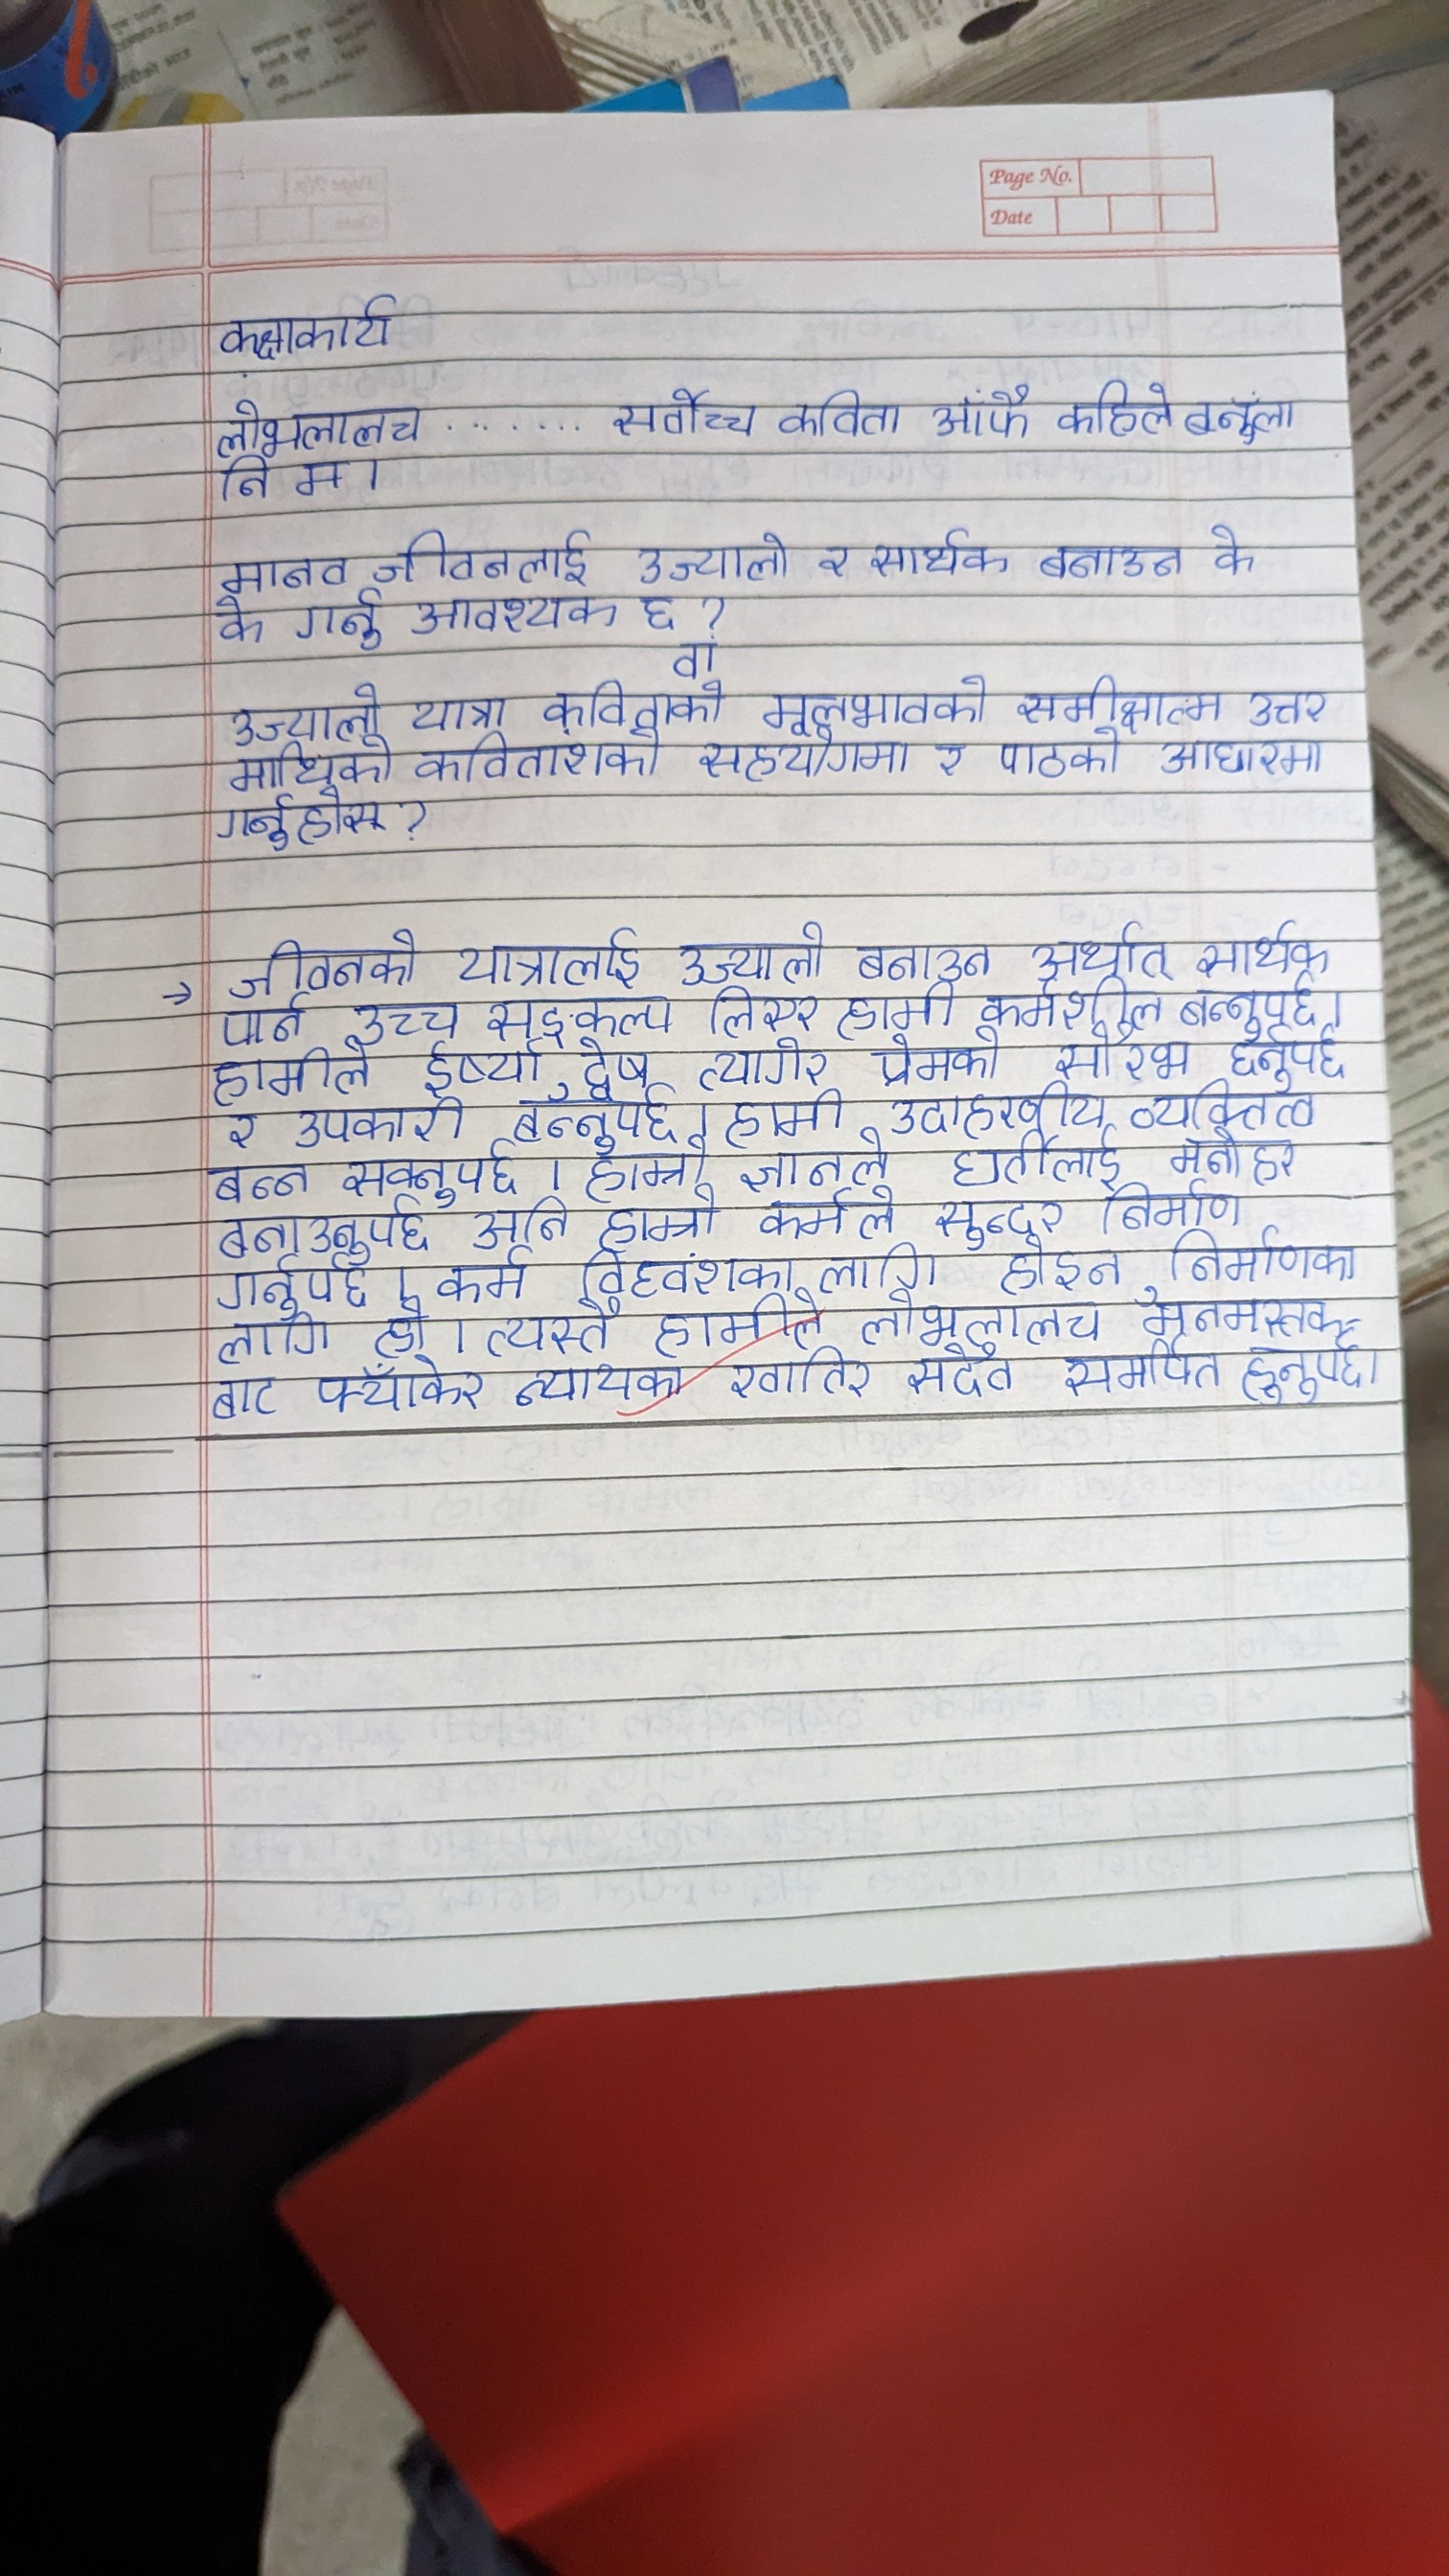text: (211, 285, 400, 361), (370, 522, 596, 582), (453, 918, 649, 987), (1016, 663, 1221, 727), (209, 393, 425, 453), (763, 671, 985, 727), (410, 732, 658, 782), (225, 925, 416, 989), (699, 732, 916, 787), (212, 793, 398, 856), (665, 915, 828, 987), (218, 1207, 442, 1258), (853, 1295, 1102, 1341), (200, 681, 387, 740), (412, 587, 617, 640), (886, 1090, 1111, 1136), (593, 386, 757, 442), (1019, 916, 1169, 978), (1164, 1235, 1359, 1283), (725, 1348, 879, 1408), (573, 1253, 800, 1293), (340, 1148, 513, 1201), (540, 681, 731, 729), (513, 1361, 690, 1412), (630, 527, 796, 580), (488, 994, 678, 1040), (1033, 527, 1189, 582), (214, 1260, 373, 1313), (947, 1136, 1115, 1185), (1058, 1345, 1223, 1394), (651, 1299, 828, 1345), (865, 520, 1008, 577), (290, 1102, 481, 1145), (511, 1095, 681, 1143), (770, 382, 904, 442), (211, 1049, 373, 1099), (1192, 915, 1330, 973), (1141, 1295, 1345, 1334), (924, 375, 1031, 448), (978, 985, 1168, 1026), (1238, 1339, 1366, 1399), (226, 745, 396, 789), (313, 1368, 483, 1412), (925, 1189, 1076, 1238), (855, 929, 994, 982), (1095, 1189, 1258, 1233), (1049, 1031, 1189, 1083), (1168, 1131, 1307, 1182), (736, 1146, 897, 1191), (987, 1240, 1131, 1290), (1131, 1088, 1320, 1125), (1062, 373, 1175, 435), (1166, 743, 1329, 786), (1180, 978, 1323, 1026), (214, 540, 352, 589), (761, 1192, 902, 1240), (596, 1191, 718, 1246), (1223, 1030, 1350, 1081), (872, 1037, 1003, 1086), (423, 1042, 545, 1093), (1185, 389, 1295, 446), (487, 1304, 616, 1352), (996, 731, 1116, 780), (579, 1146, 715, 1189), (906, 1348, 1017, 1399), (727, 1090, 842, 1139), (817, 1244, 941, 1290), (837, 987, 950, 1035), (699, 1042, 823, 1085), (214, 1316, 333, 1361), (294, 594, 389, 649), (341, 998, 469, 1037), (708, 987, 814, 1031), (205, 1371, 287, 1428), (211, 1164, 320, 1203), (439, 1260, 529, 1302), (405, 692, 511, 727), (1240, 683, 1332, 724), (219, 996, 301, 1042), (476, 1203, 566, 1244), (575, 1042, 660, 1085), (1203, 522, 1258, 580), (207, 596, 271, 646), (375, 1292, 425, 1355), (216, 455, 272, 499), (295, 458, 350, 495), (635, 591, 685, 632), (221, 1109, 265, 1152), (669, 639, 717, 674), (931, 740, 968, 784), (812, 543, 853, 580)
